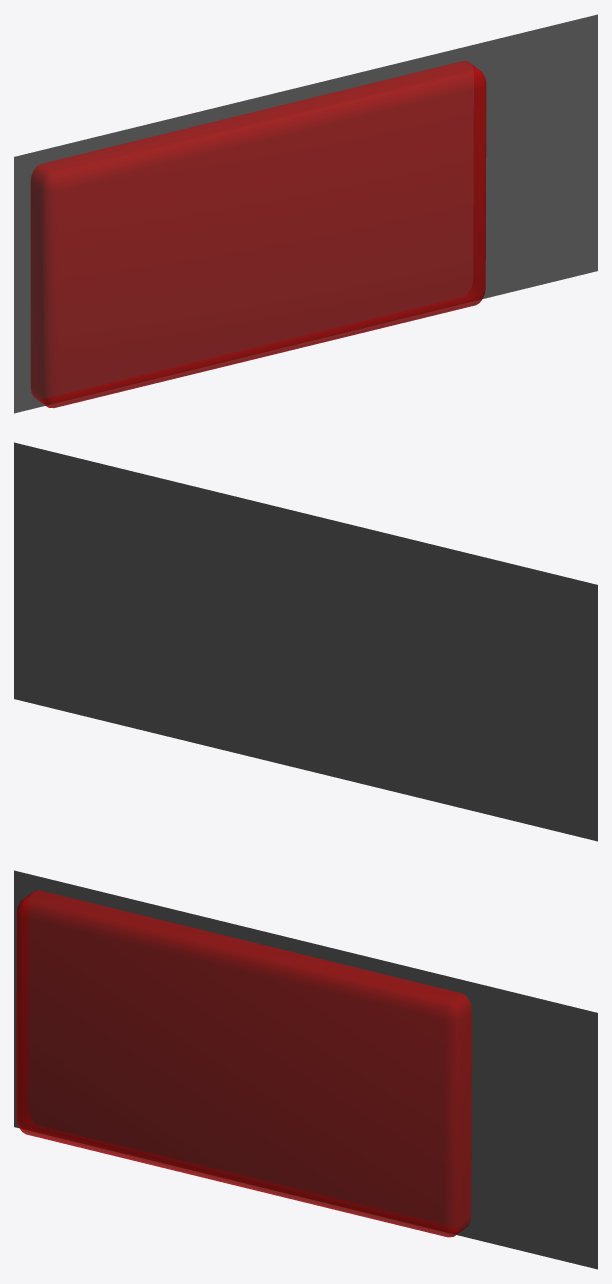
Rendered from Display_09.dae.
3 views of the same model, one above another, from view 1: azimuth 30°, elevation 25°; view 2: azimuth 150°, elevation 25°; view 3: azimuth 330°, elevation 25° (orthographic).
Parts seen in each view (by area): view 1: Display_09_part_01_LOD0, Display_09_part_02_LOD0; view 2: Display_09_part_01_LOD0; view 3: Display_09_part_01_LOD0, Display_09_part_02_LOD0.
Part boxes in pixels (x1,y1,x2,y2): Display_09_part_01_LOD0: (14,14,597,413); Display_09_part_02_LOD0: (30,61,486,407); Display_09_part_01_LOD0: (14,442,597,841); Display_09_part_01_LOD0: (14,870,597,1269); Display_09_part_02_LOD0: (16,890,471,1237).
Size of the model in its own units: 37.48 by 15.74 by 1.96.
